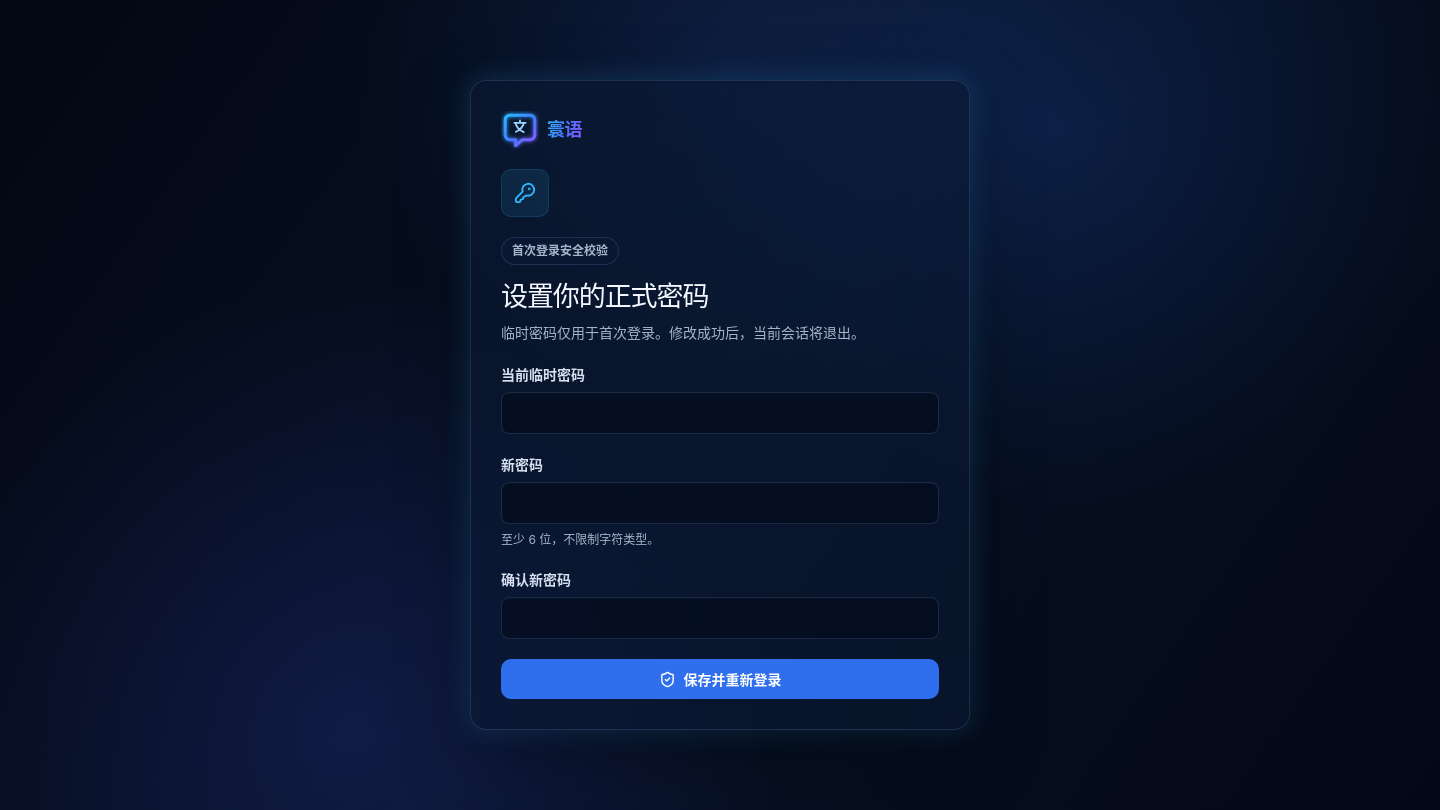
Test: ForcePasswordView › 拒绝不足六位的新密码
The width and height of the screenshot is (1440, 810).
Type "temporary-password" into the password field with id "current-password" at (720,413), box [501,392,939,434]
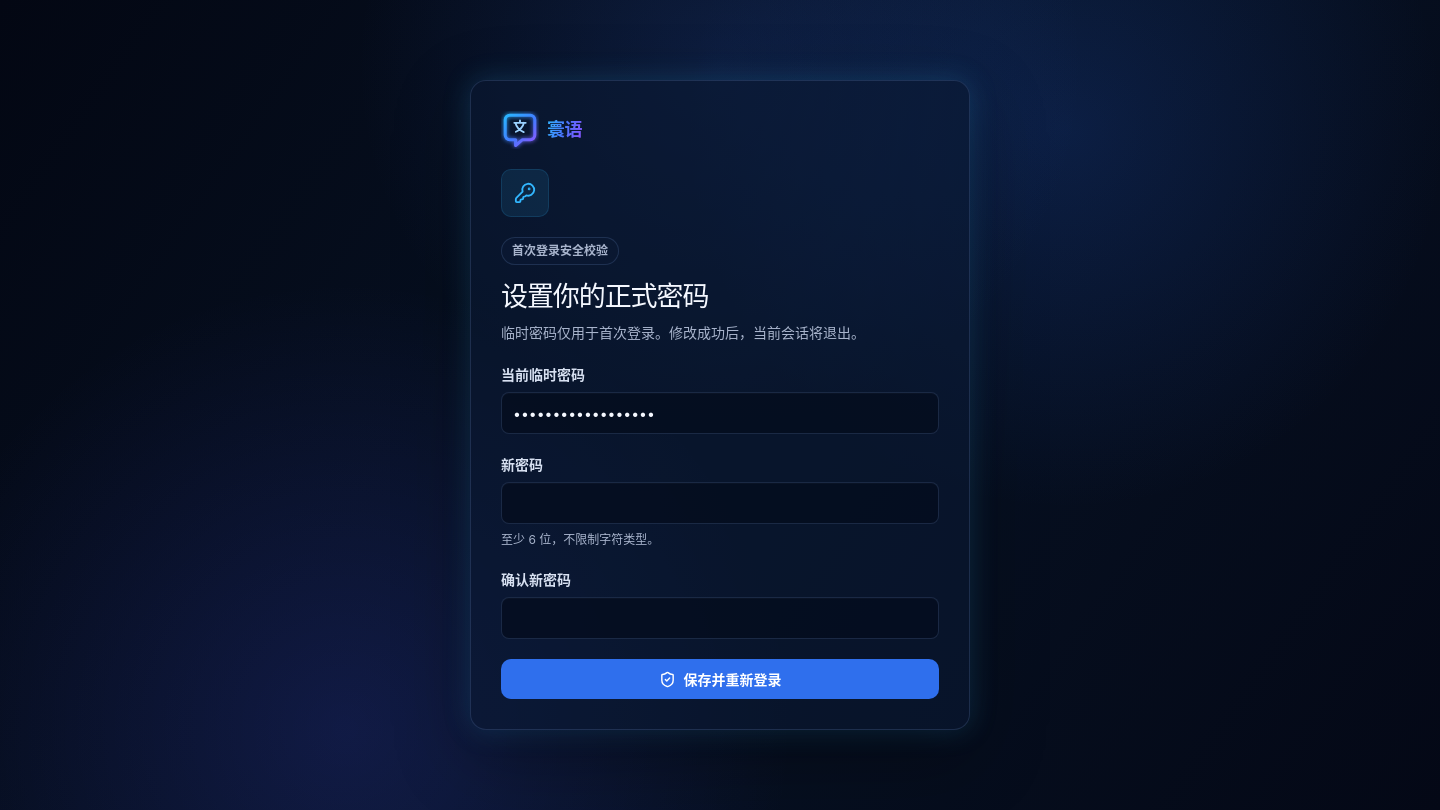
Type "12345" into the password field with id "new-password" at (720,503), box [501,482,939,524]
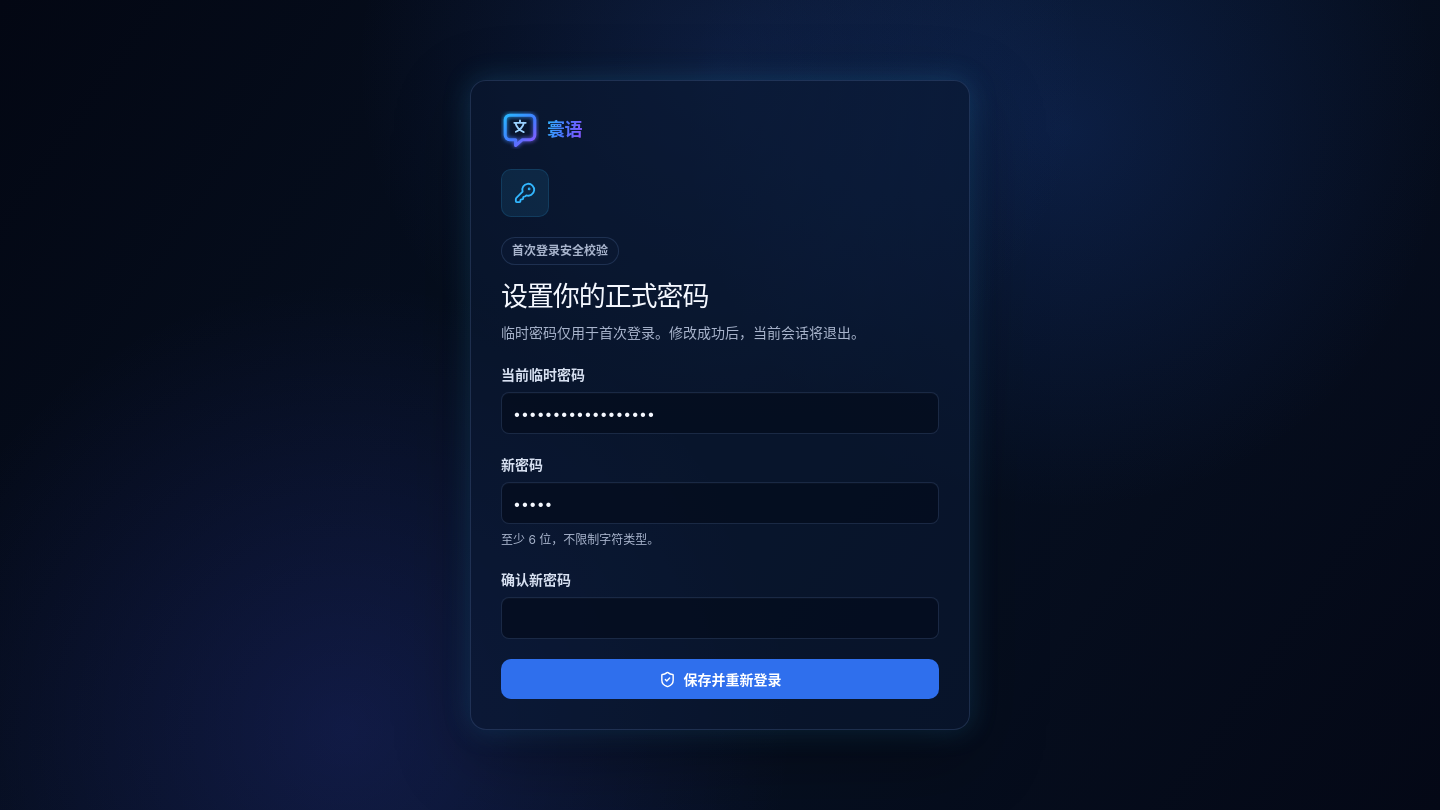
Type "12345" into the password field with id "confirm-password" at (720,618), box [501,597,939,639]
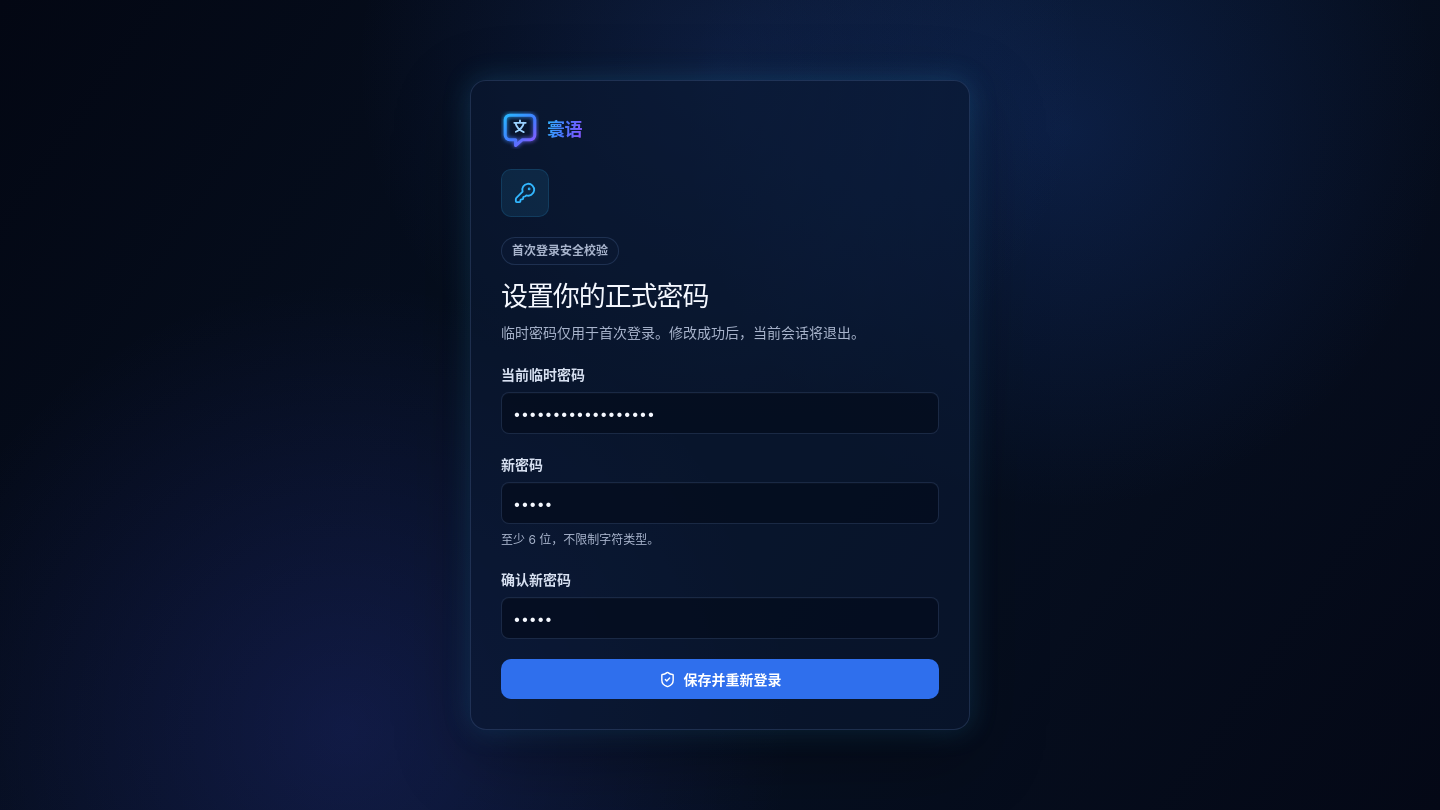
Submit the form, box [470,80,970,730]
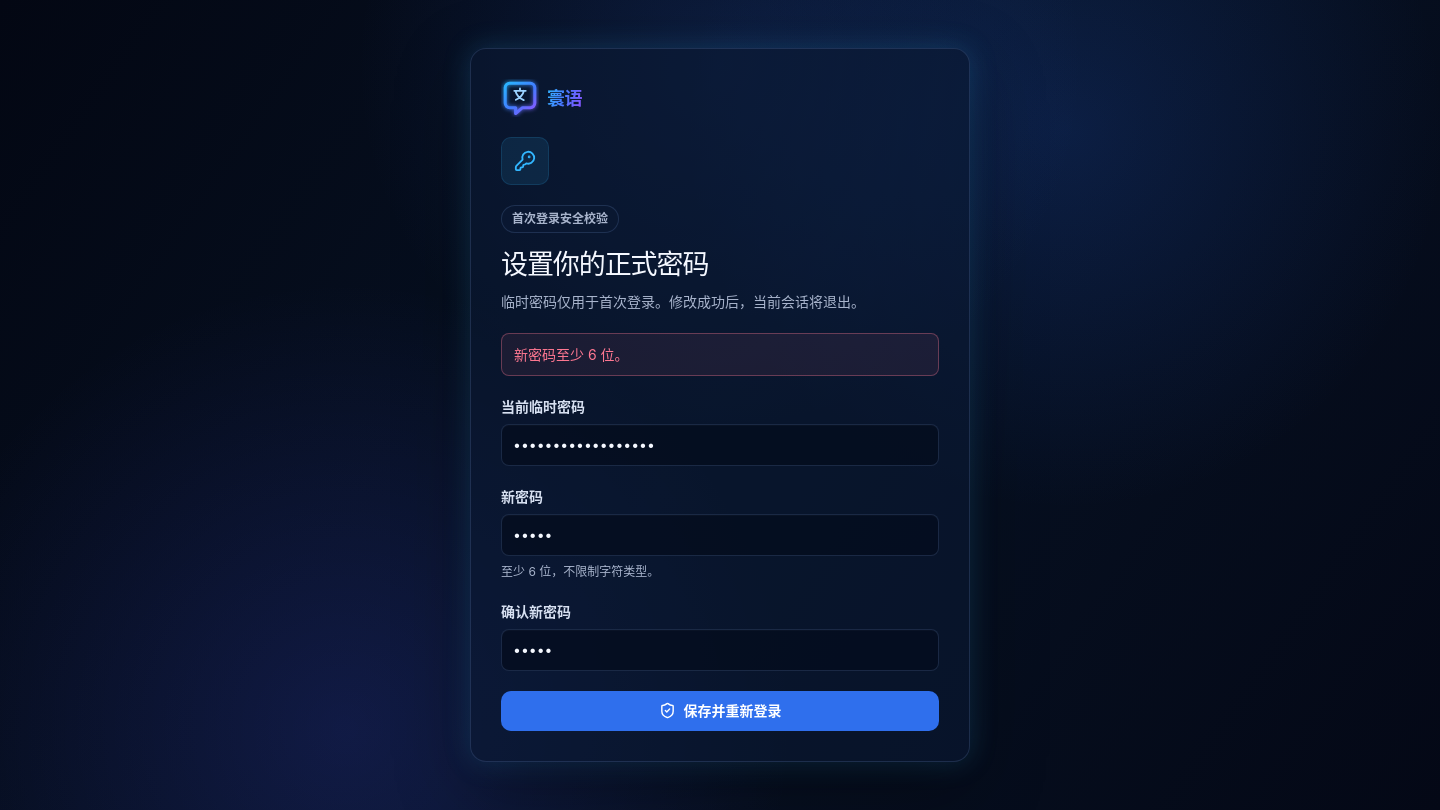
Check: the message "新密码至少 6 位。" is shown, box [501,333,939,376]
